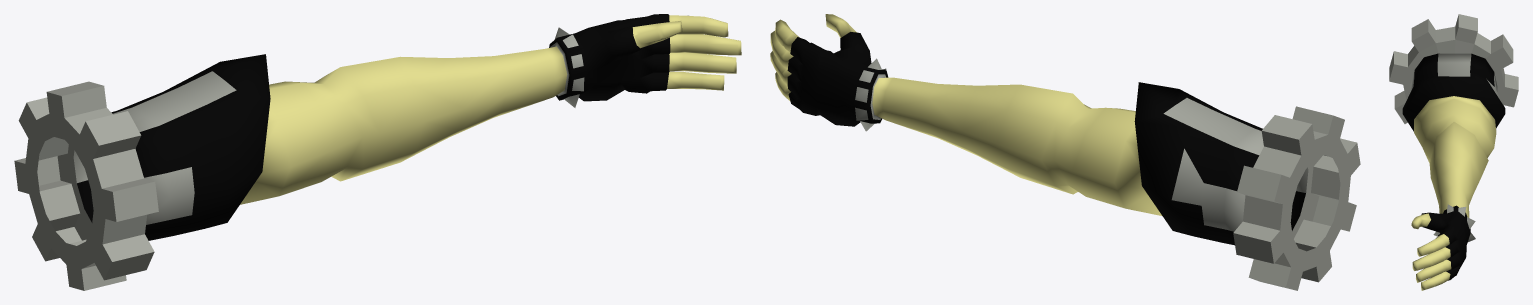
Rendered from character-v2.glb.
3 renders of one model, left to right at view 1: azimuth 30°, elevation 25°; view 2: azimuth 150°, elevation 25°; view 3: azimuth 270°, elevation 25°, orthographic. The views are drawn at different scales.
Visible parts, largest first — view 1: Cube.008; view 2: Cube.008; view 3: Cube.008.
Part boxes in pixels (x1,y1,x2,y2): Cube.008: [14, 14, 741, 290]; Cube.008: [770, 14, 1360, 290]; Cube.008: [1389, 14, 1518, 290].
Bounding box in the file's own units: 1.09 × 0.2976 × 0.2976.
